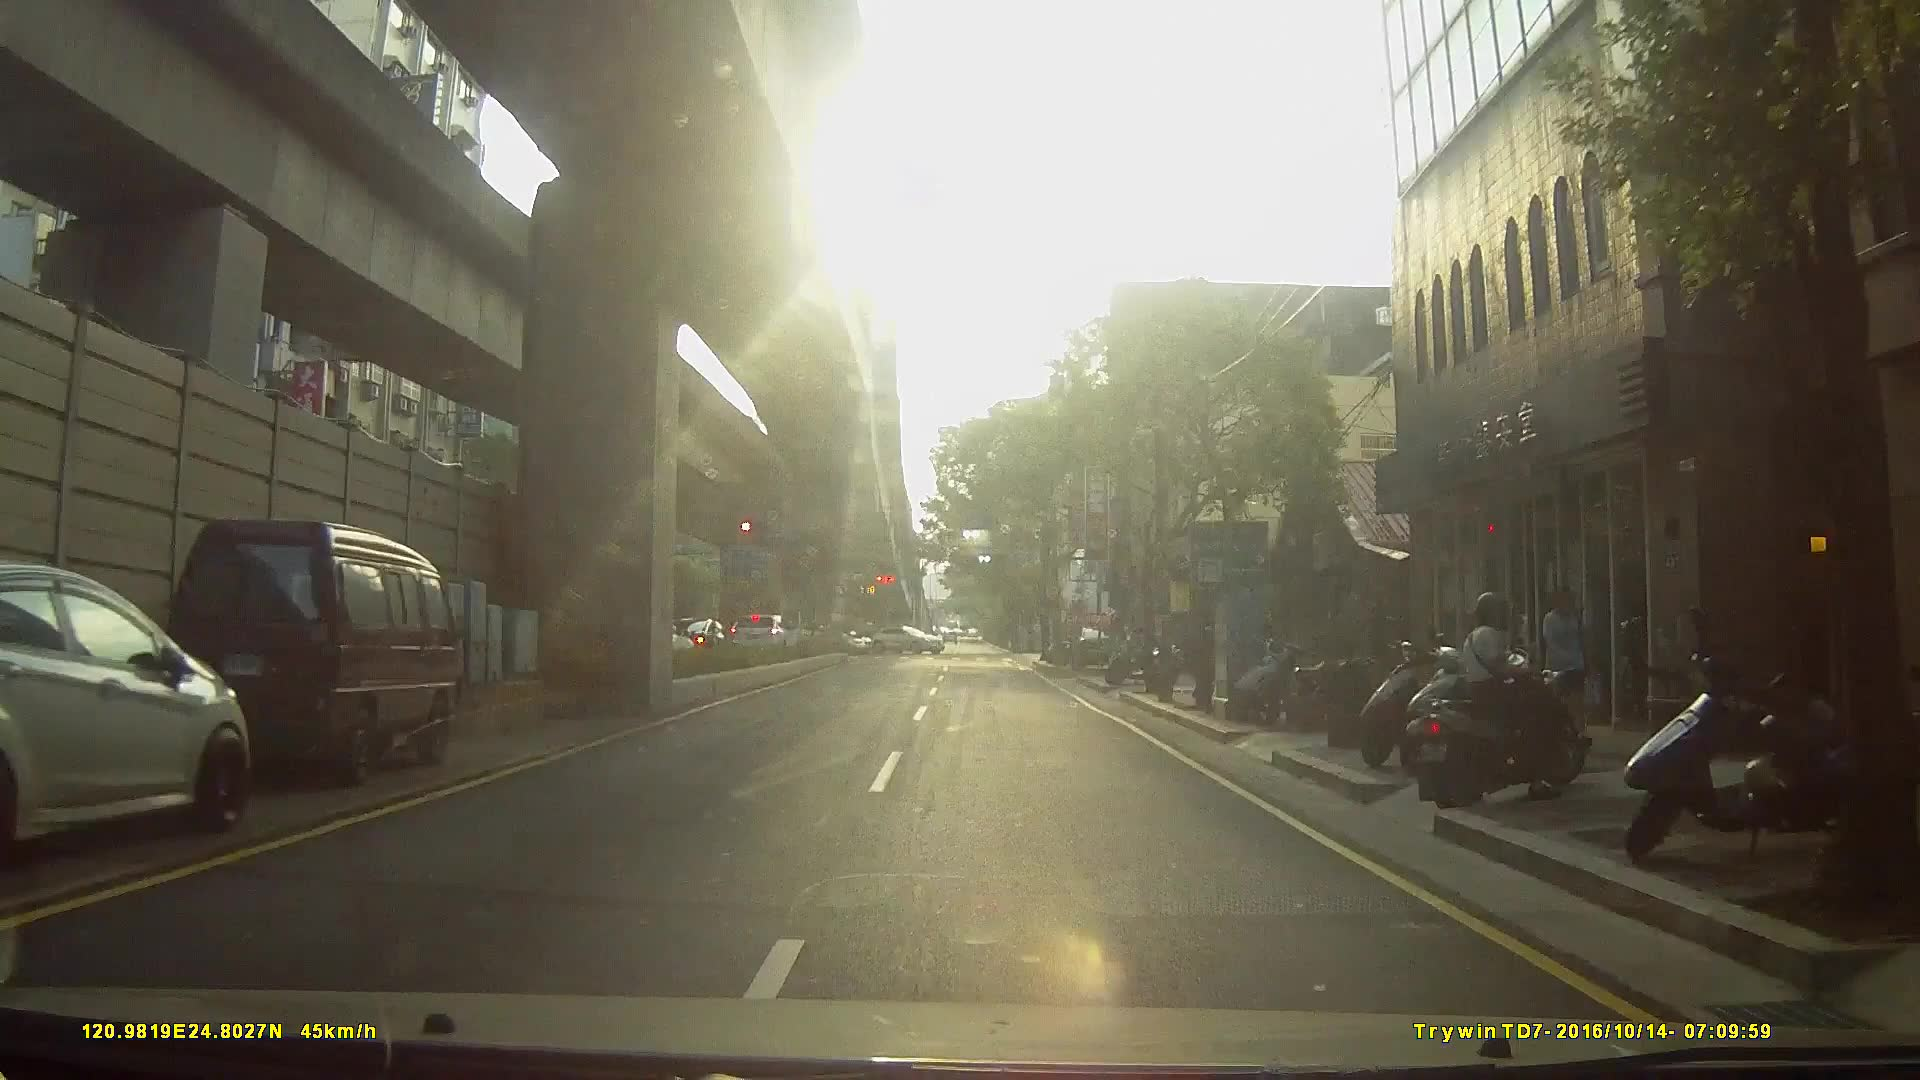pedestrian: (1538, 587, 1602, 754)
rider: (1419, 597, 1609, 820)
vehicle: (148, 511, 504, 792), (1, 561, 262, 850), (781, 620, 876, 658), (726, 613, 804, 659), (1066, 622, 1118, 670), (870, 626, 948, 656)
